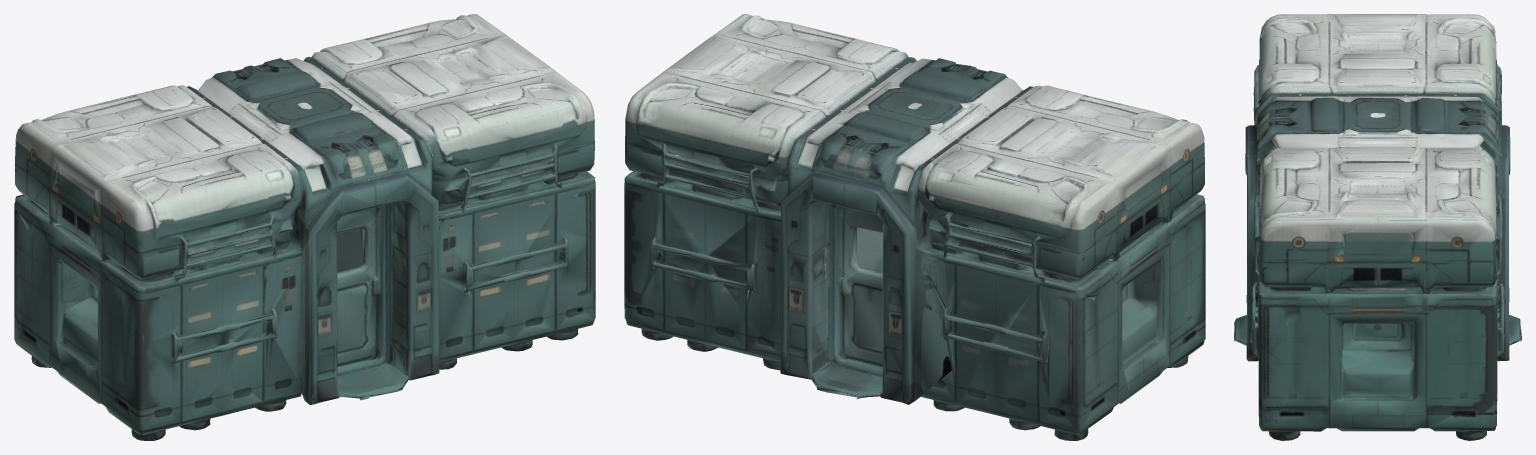
Rendered from corvette_crew_quarters.repacked.glb.
3 renders of one model, left to right at view 1: azimuth 30°, elevation 25°; view 2: azimuth 150°, elevation 25°; view 3: azimuth 270°, elevation 25°, orthographic. The views are drawn at different scales.
Visible parts, largest first — view 1: Mesh1.0; view 2: Mesh1.0; view 3: Mesh1.0.
Boxes of the visible parts, box(x1,y1,x2,y2) form: Mesh1.0: box(14, 14, 595, 440); Mesh1.0: box(624, 14, 1205, 440); Mesh1.0: box(1234, 14, 1521, 440).
Bounding box in the file's own units: 1.91 × 0.9829 × 1.11.
1 material, 1 textured.
